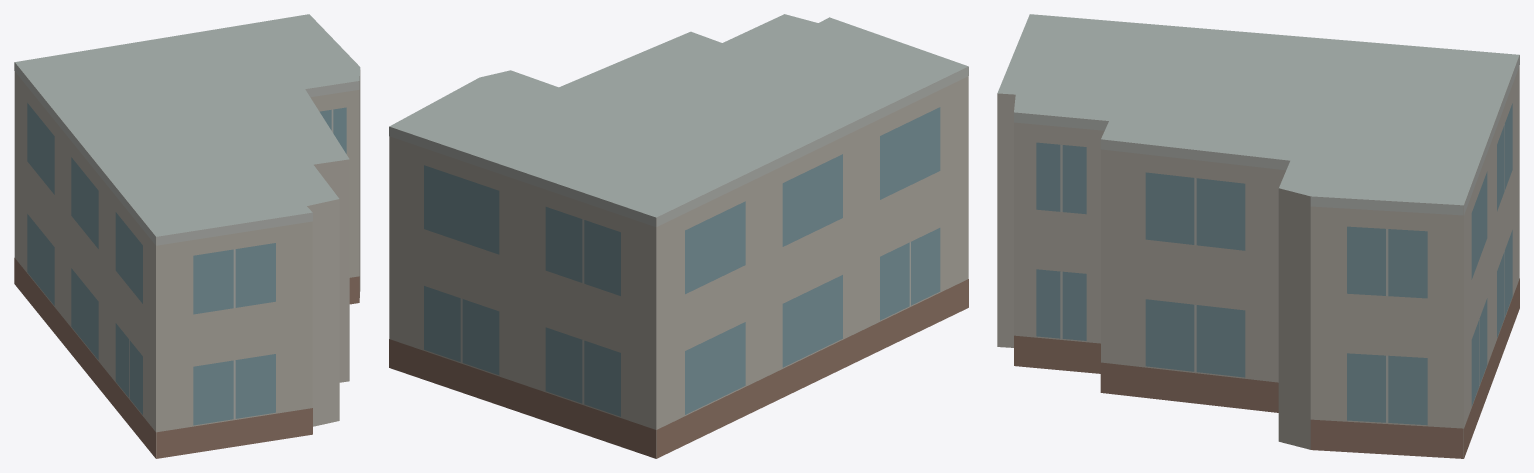
Rendered from survey-upis-32668105.glb.
The picture shows the model from 3 angles, left to right: view 1: azimuth 30°, elevation 25°; view 2: azimuth 150°, elevation 25°; view 3: azimuth 270°, elevation 25°; orthographic projection. The views are drawn at different scales.
Visible parts, largest first — view 1: survey-upis-32668105.tmp; view 2: survey-upis-32668105.tmp; view 3: survey-upis-32668105.tmp.
Part boxes in pixels (x1,y1,x2,y2): survey-upis-32668105.tmp: [14, 14, 360, 458]; survey-upis-32668105.tmp: [389, 14, 968, 458]; survey-upis-32668105.tmp: [997, 14, 1519, 458].
Bounding box in the file's own units: 9.88 × 6.1 × 11.4.
